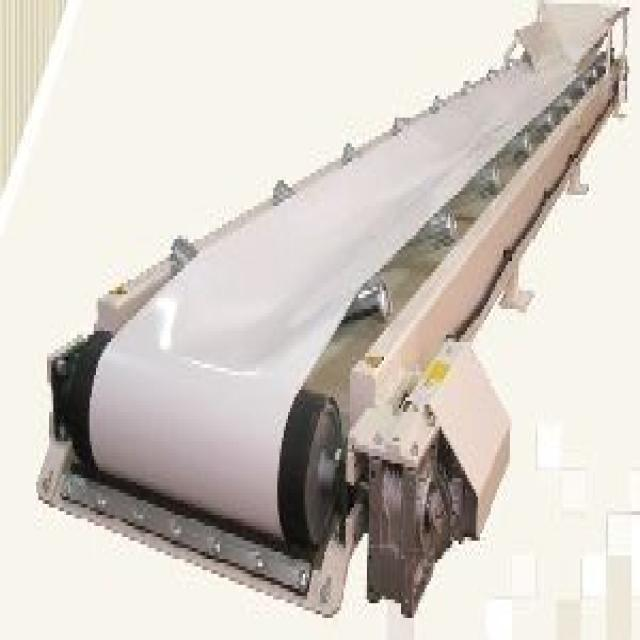conveyor: (46, 16, 630, 640)
